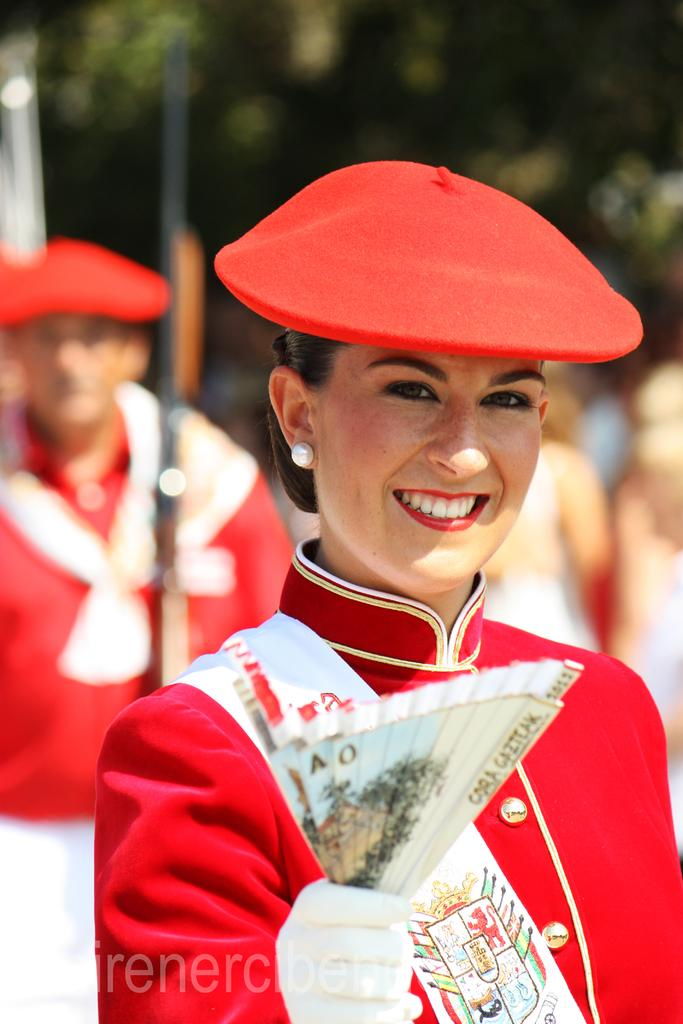Hat: (209, 158, 640, 360)
